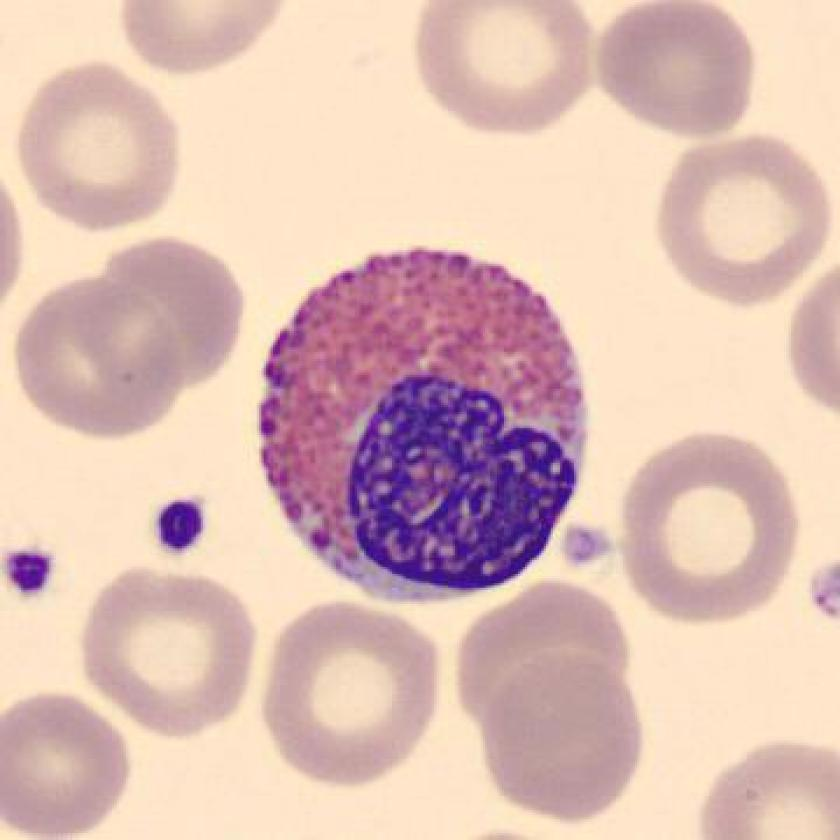eosinophil: (244, 228, 601, 617)
